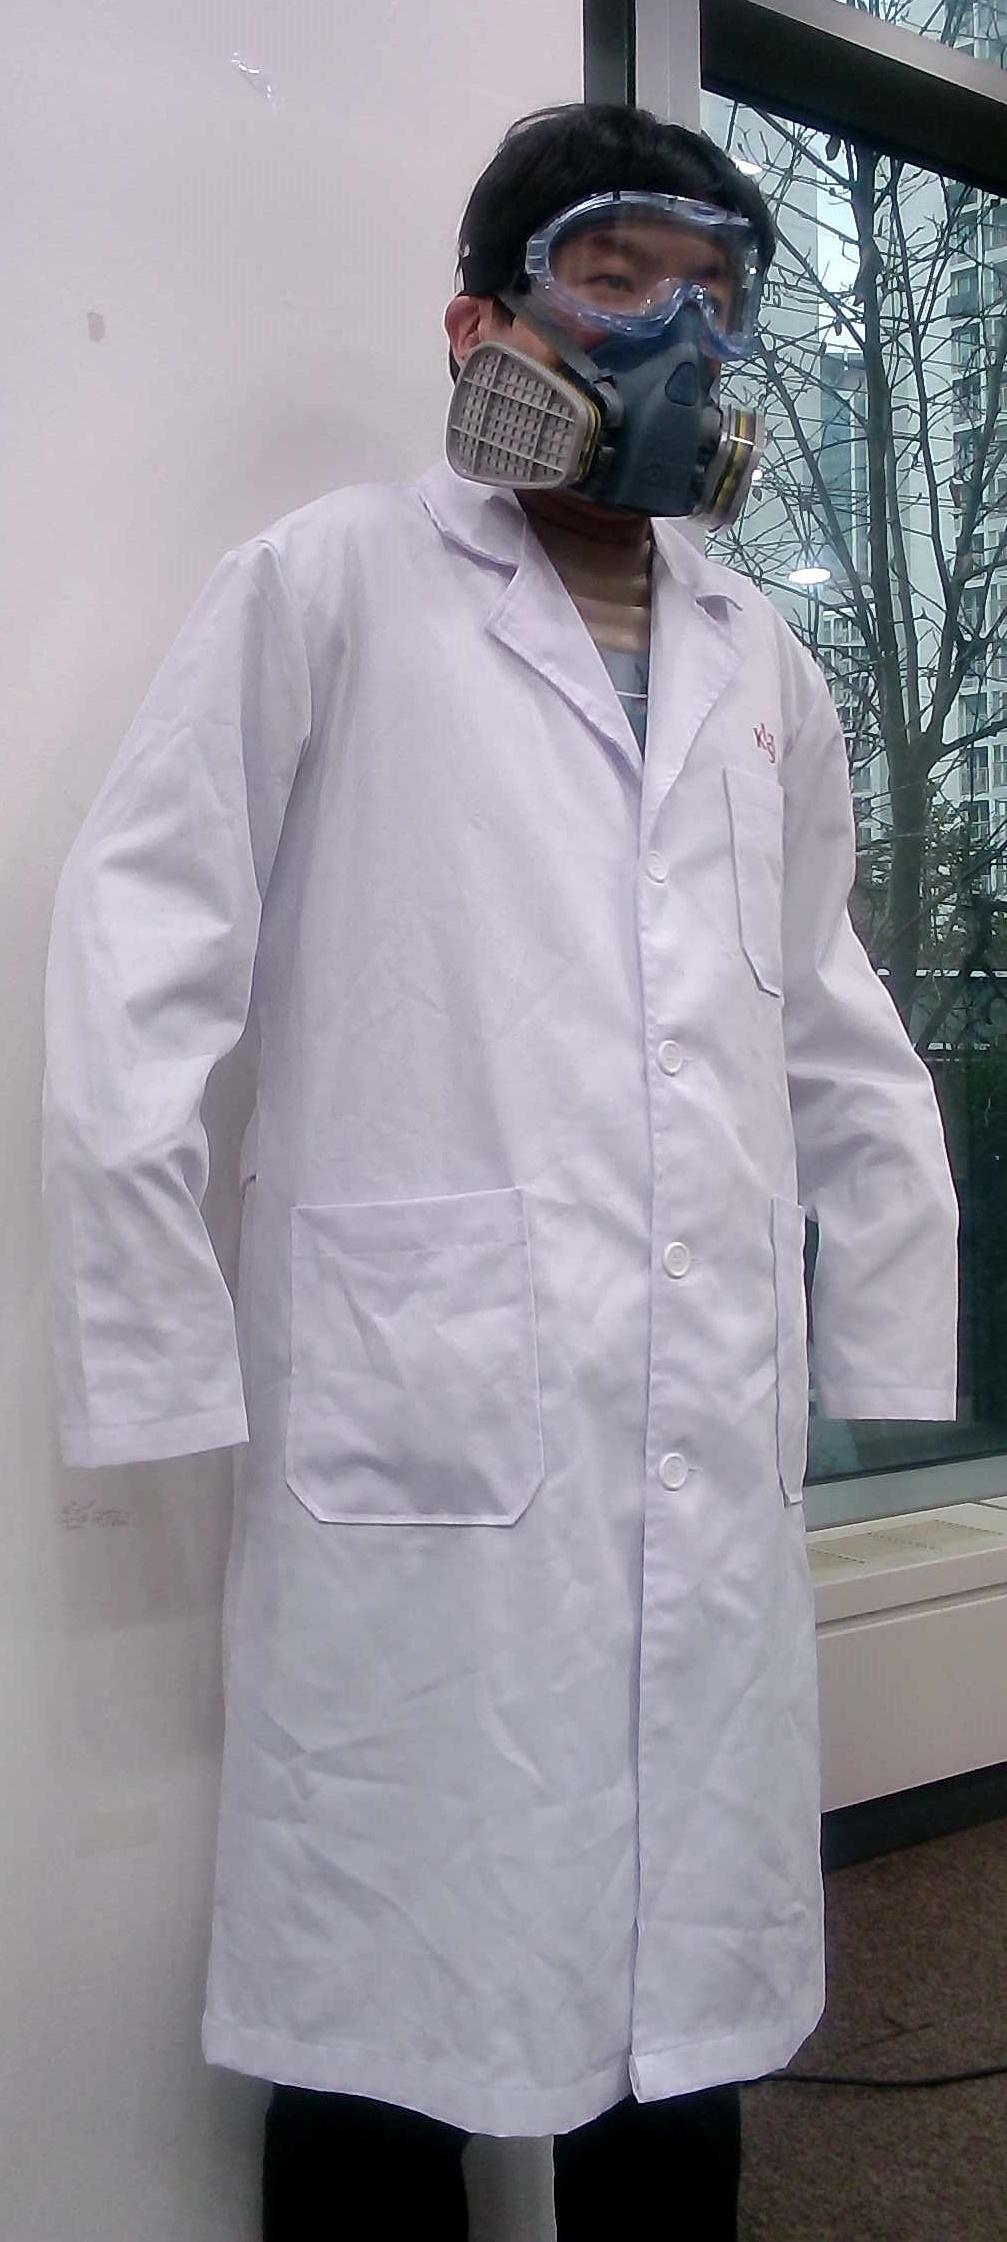lab_coat: (46, 556, 983, 2090)
